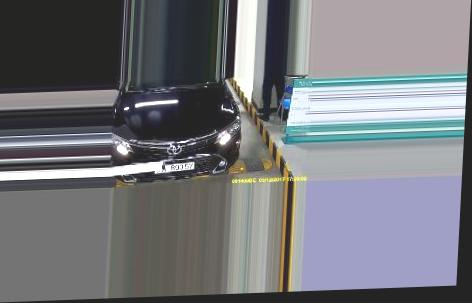License_Plate: (154, 161, 195, 172)
